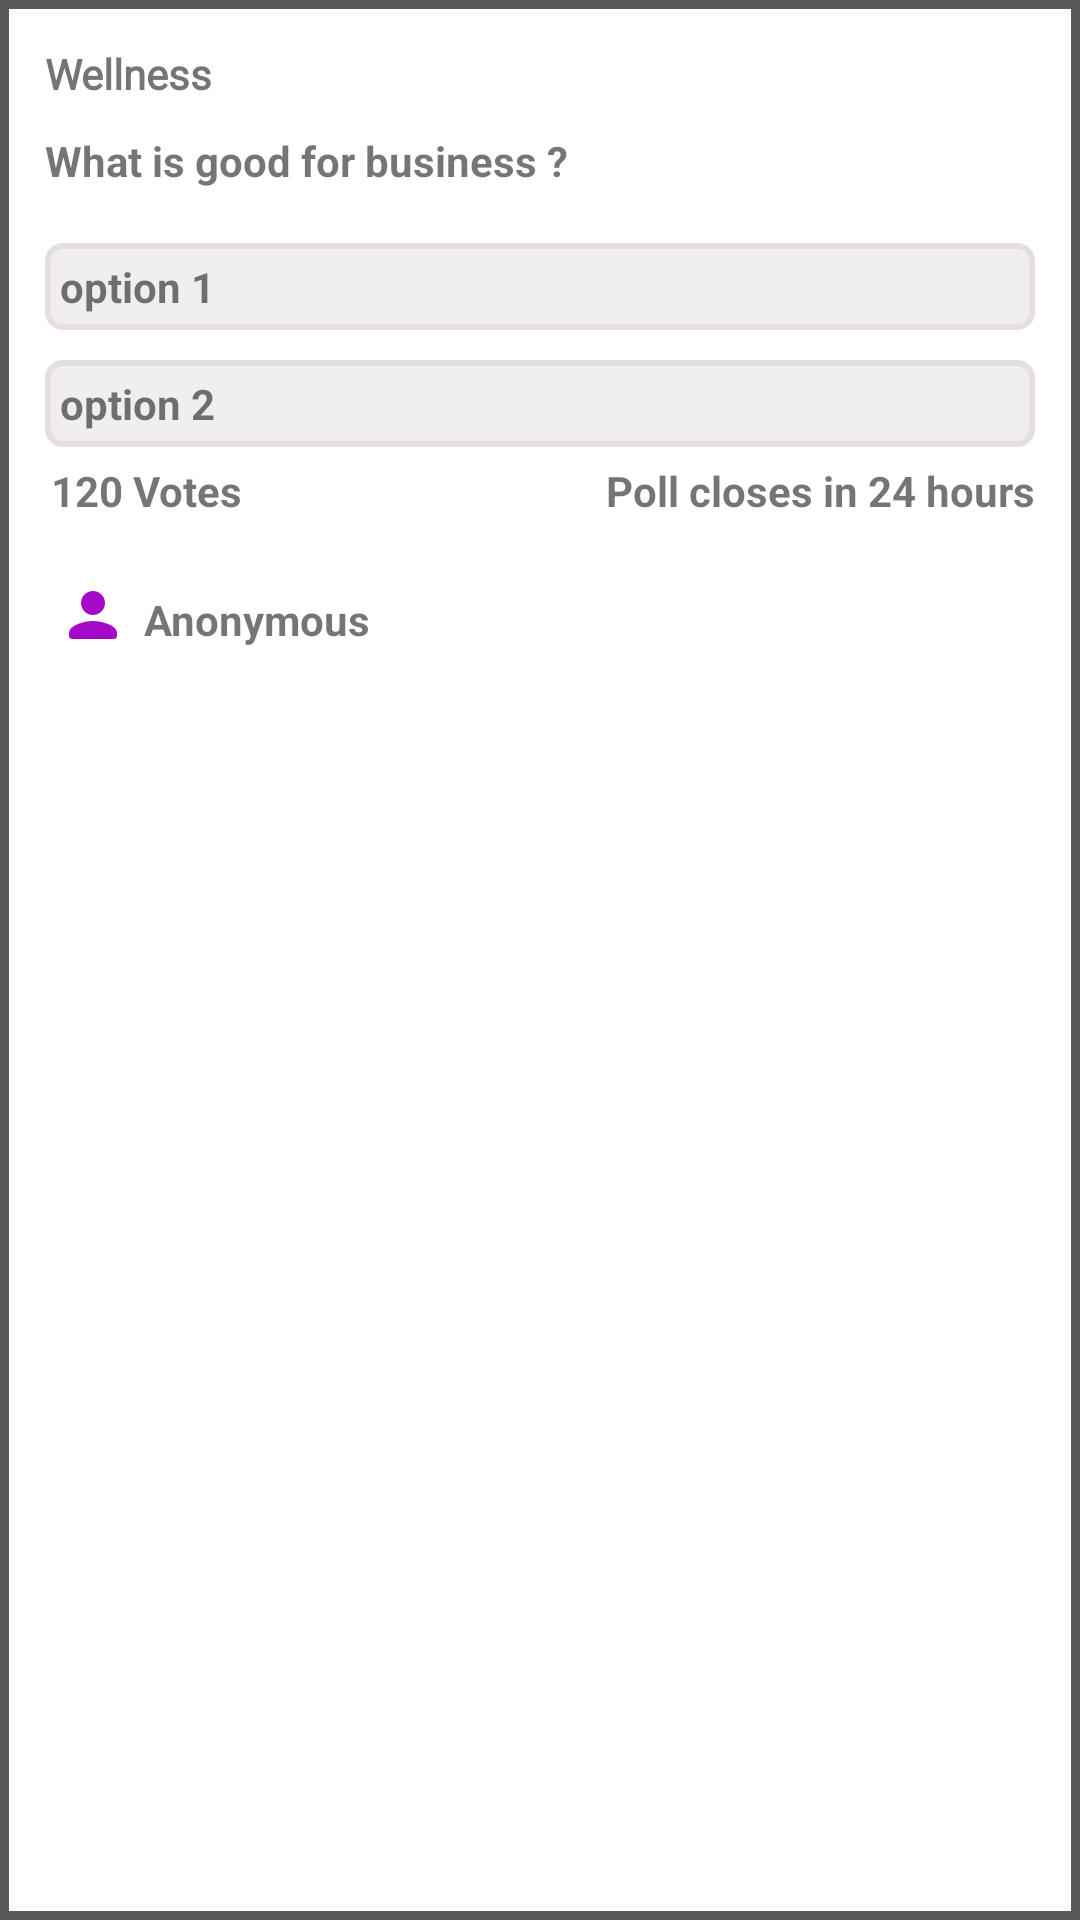

Icons on this 1080w x 1920h Android screen, each with the point to tap as (x=x, y=y):
person: (x=93, y=615)
